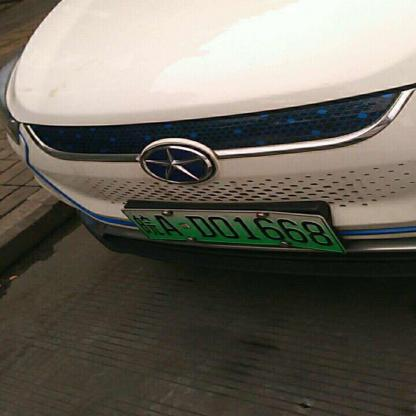lp: (121, 210, 346, 252)
